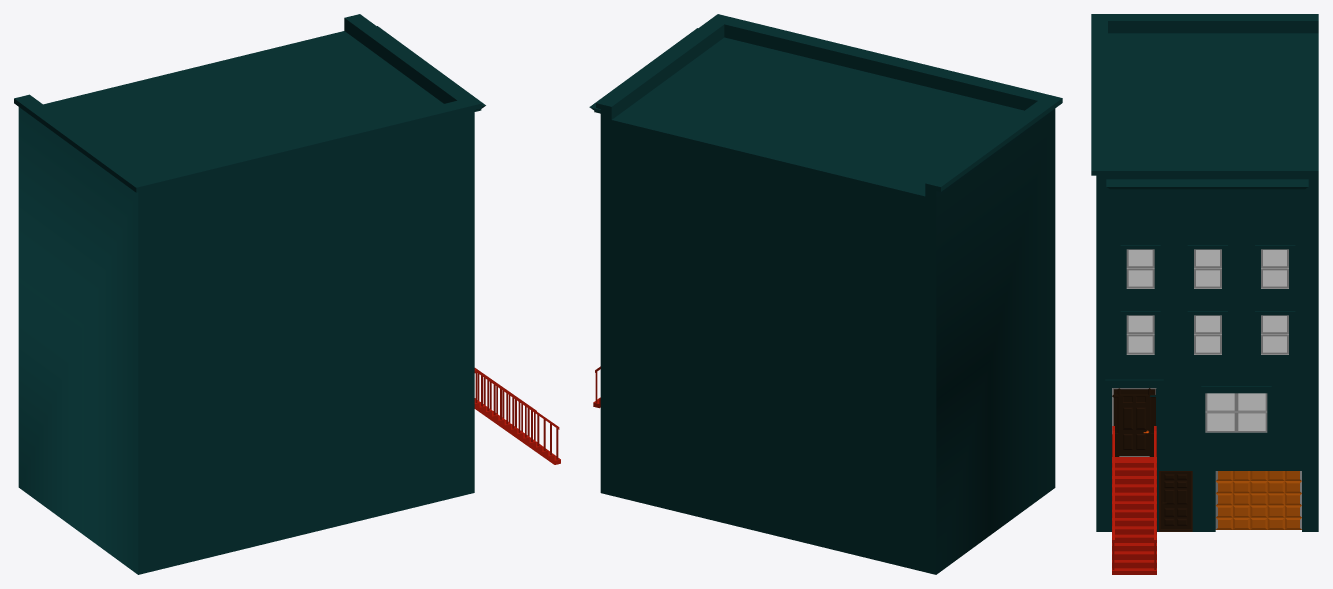
The model's file is building1.FBX.
3 renders of one model, left to right at view 1: azimuth 30°, elevation 25°; view 2: azimuth 150°, elevation 25°; view 3: azimuth 270°, elevation 25°, orthographic. The views are drawn at different scales.
Visible parts, largest first — view 1: Building_G; view 2: Building_G; view 3: Building_G.
Boxes of the visible parts, bbox=[...] form: Building_G: bbox=[14, 14, 560, 574]; Building_G: bbox=[589, 14, 1062, 574]; Building_G: bbox=[1091, 14, 1318, 574].
Bounding box in the file's own units: 3539 × 3028 × 1718.
